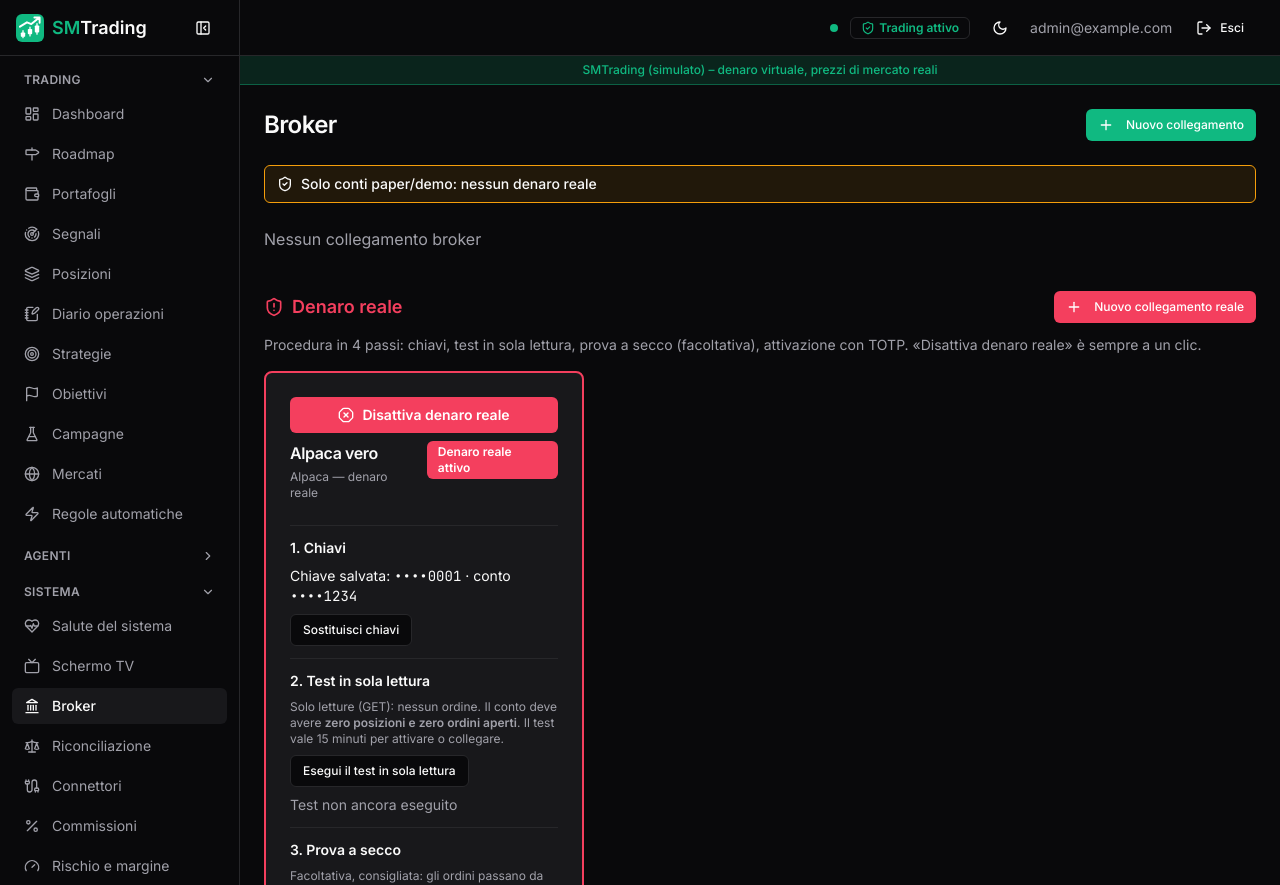
Test: LiveLinkWizard › keeps a retry button and warns when the orders could not be settled
What coordinates should you click on to do the following:
click the button "Disattiva denaro reale"
I would click on:
 (424, 415)
Its box is [290,397,558,433].
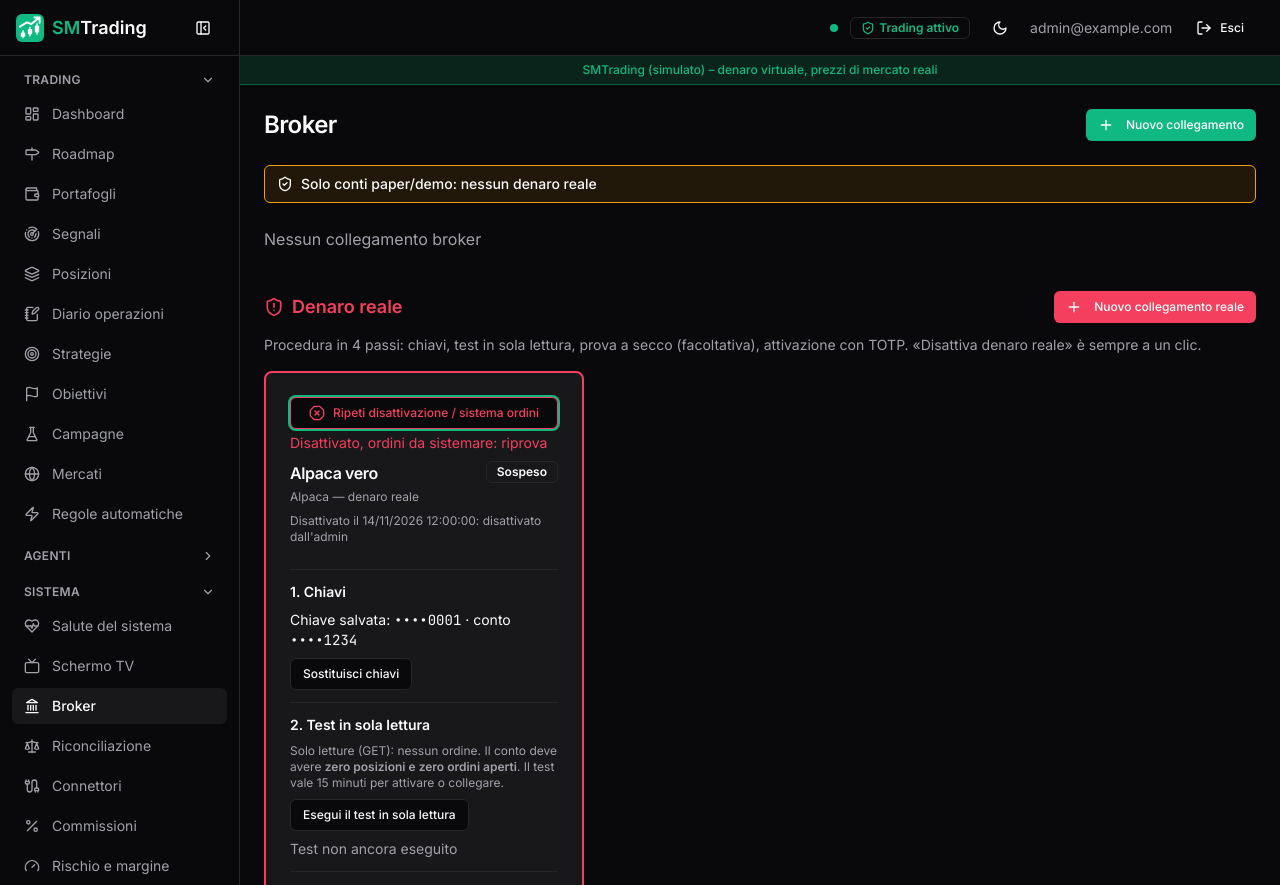
Result: the message "Disattivato, ordini da sistemare: riprova" is shown at [290,433,558,453]
What coordinates should you click on to do the following:
click the button "Ripeti disattivazione / sistema ordini"
I would click on:
 (424, 413)
Its box is [290,397,558,429].
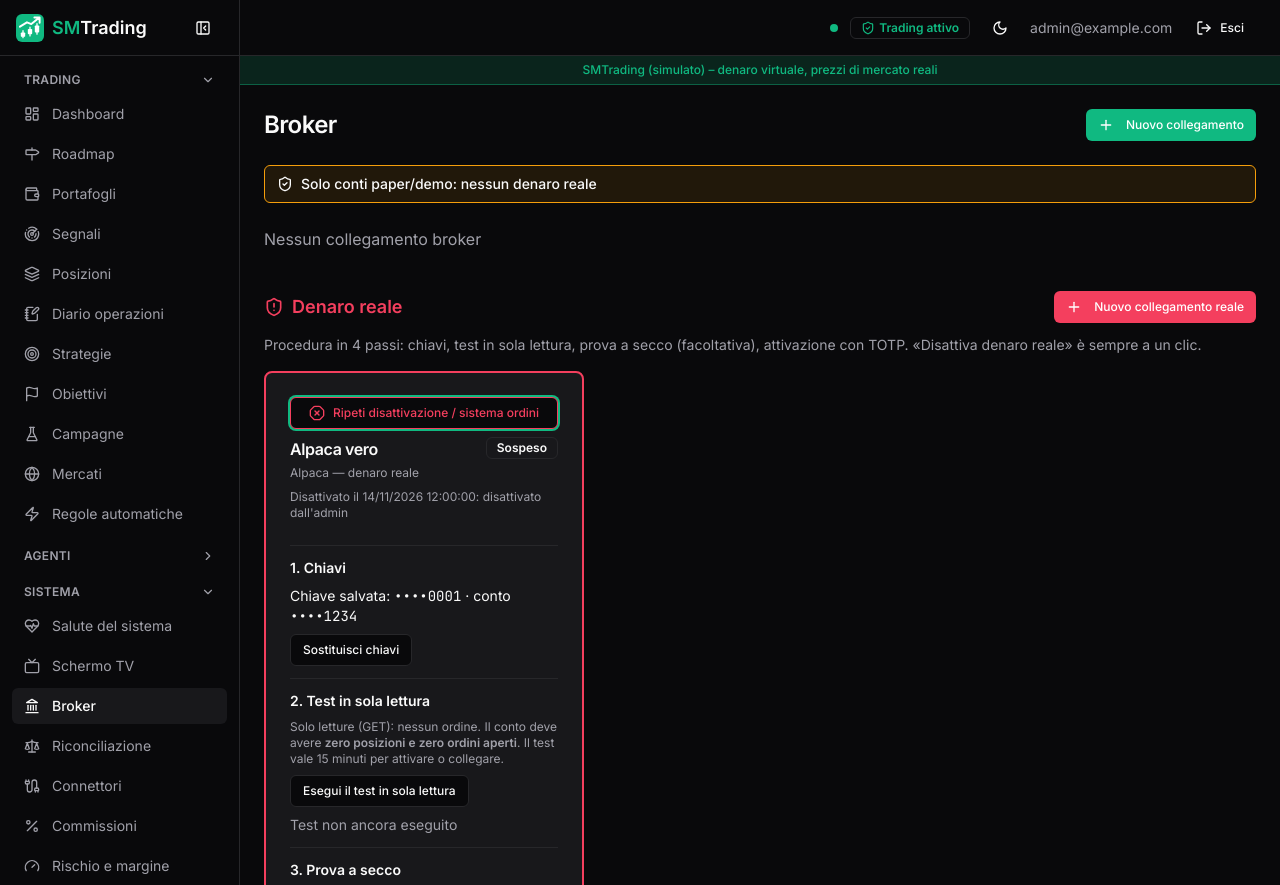
Result: the text "Disattivato, ordini da sistemare: riprova" is gone
